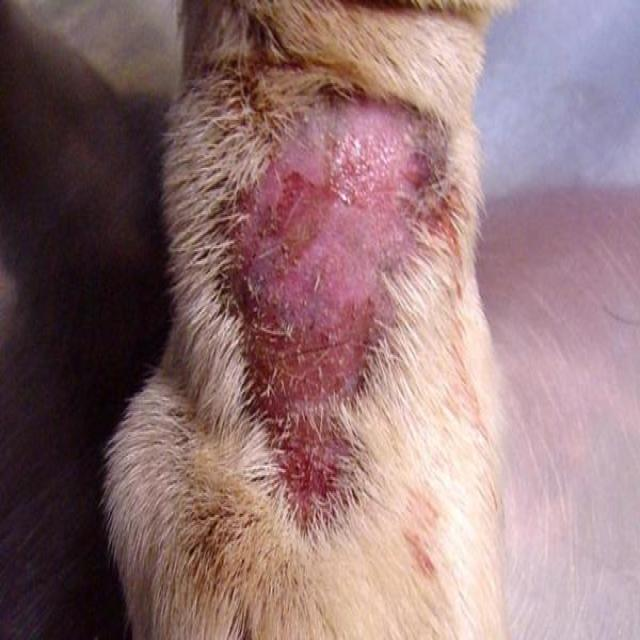viem da do vi khuan (cho): (76, 0, 537, 640)
